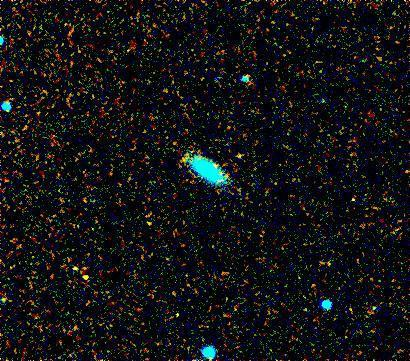star: (219, 142, 249, 172)
